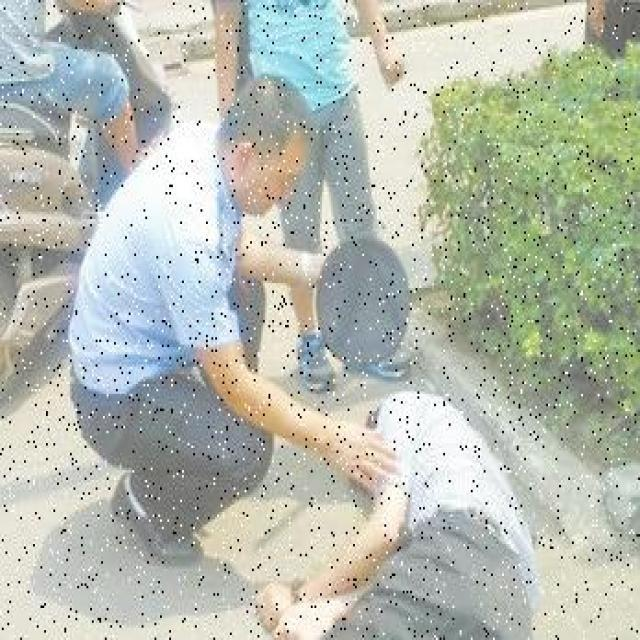fall: (298, 402, 542, 638)
